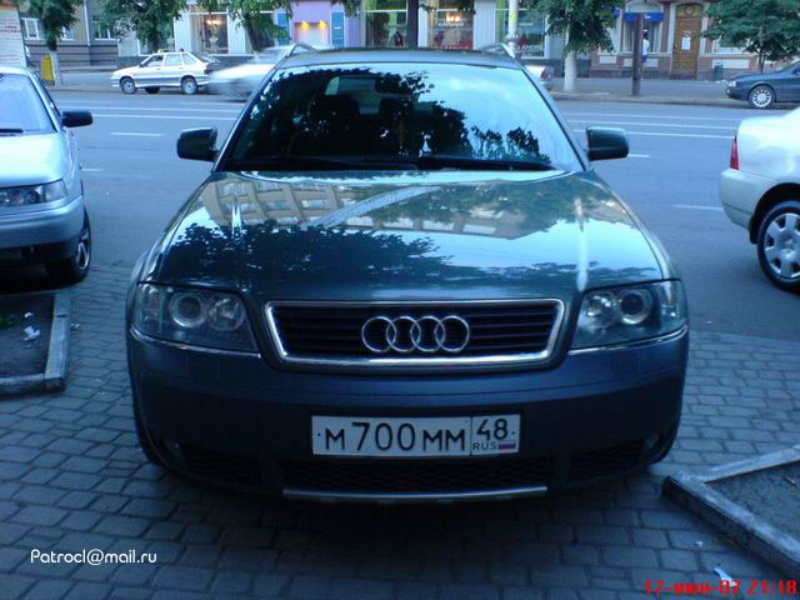car: (125, 42, 689, 525), (1, 66, 94, 284), (721, 105, 800, 290), (112, 51, 218, 94), (726, 58, 800, 109)
plate: (311, 413, 520, 456)
